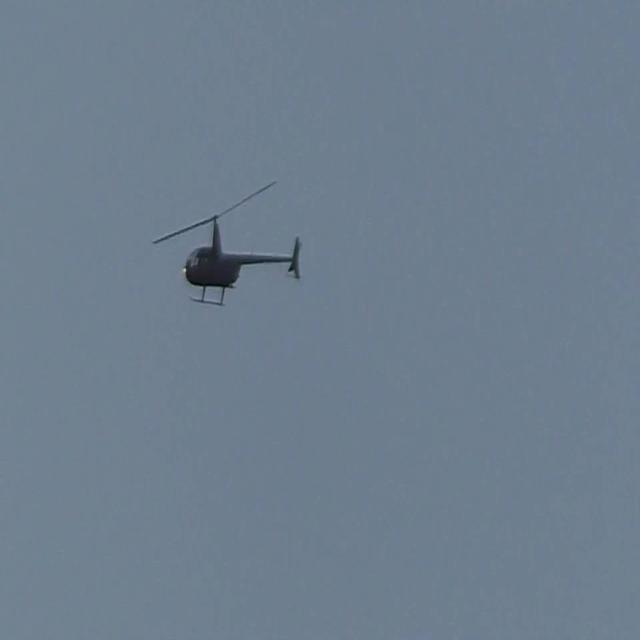CIV_HELO: (185, 215, 303, 309)
